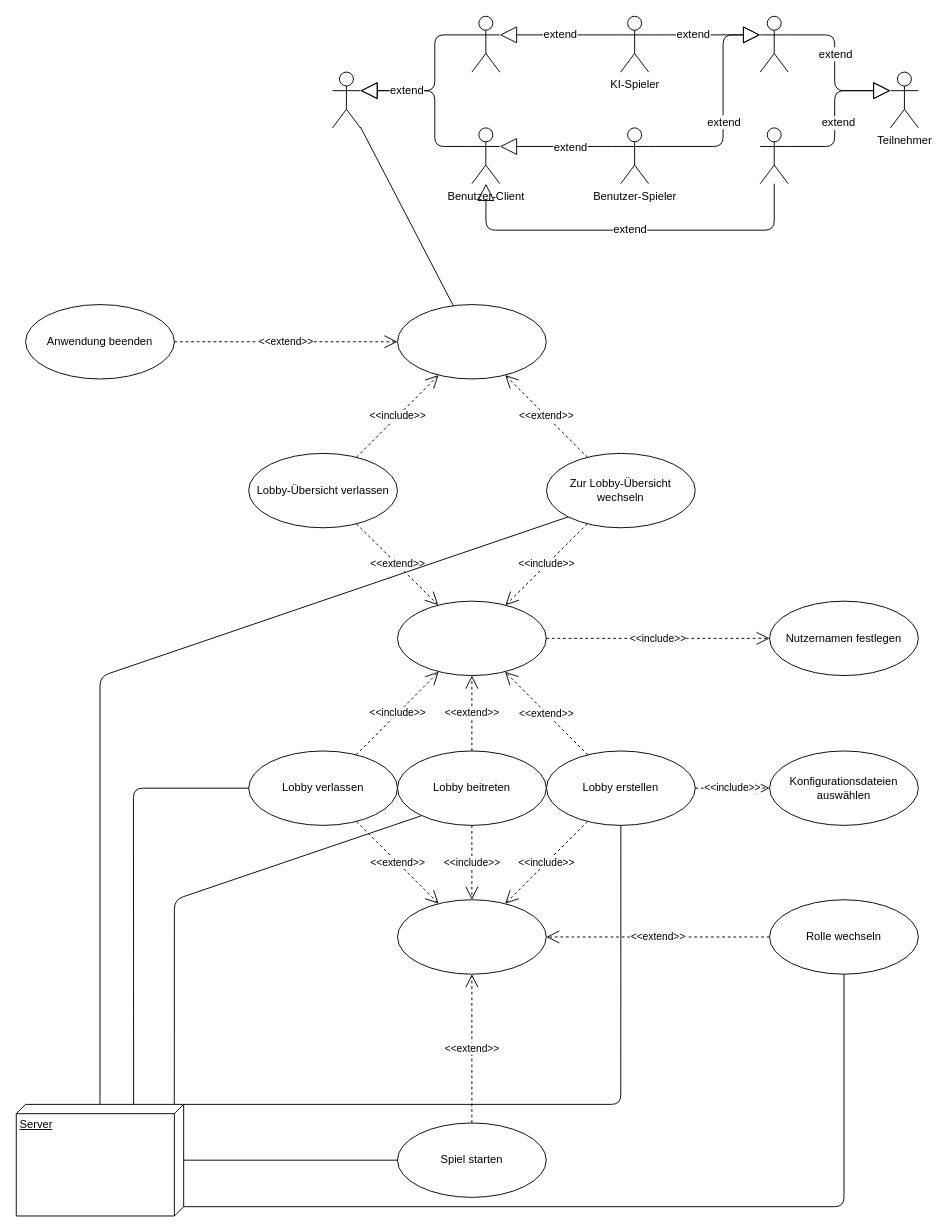
Some shapes in this 948 by 1232 pixel diagram are drawn without their labels. The centre of each missing label's shape, as x and y in pixels:
"Client {abstract}" goes at [346,99].
"Hauptmenü anzeigen" goes at [471,341].
"KI-Client" goes at [485,43].
"Lobby anzeigen" goes at [471,936].
"Lobby-Übersicht anzeigen" goes at [471,638].
"Spieler" goes at [773,43].
"Zuschauer" goes at [773,155].
